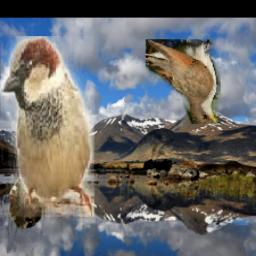Cuckoo: (146, 39, 221, 124)
Sparrow: (1, 37, 94, 218)
